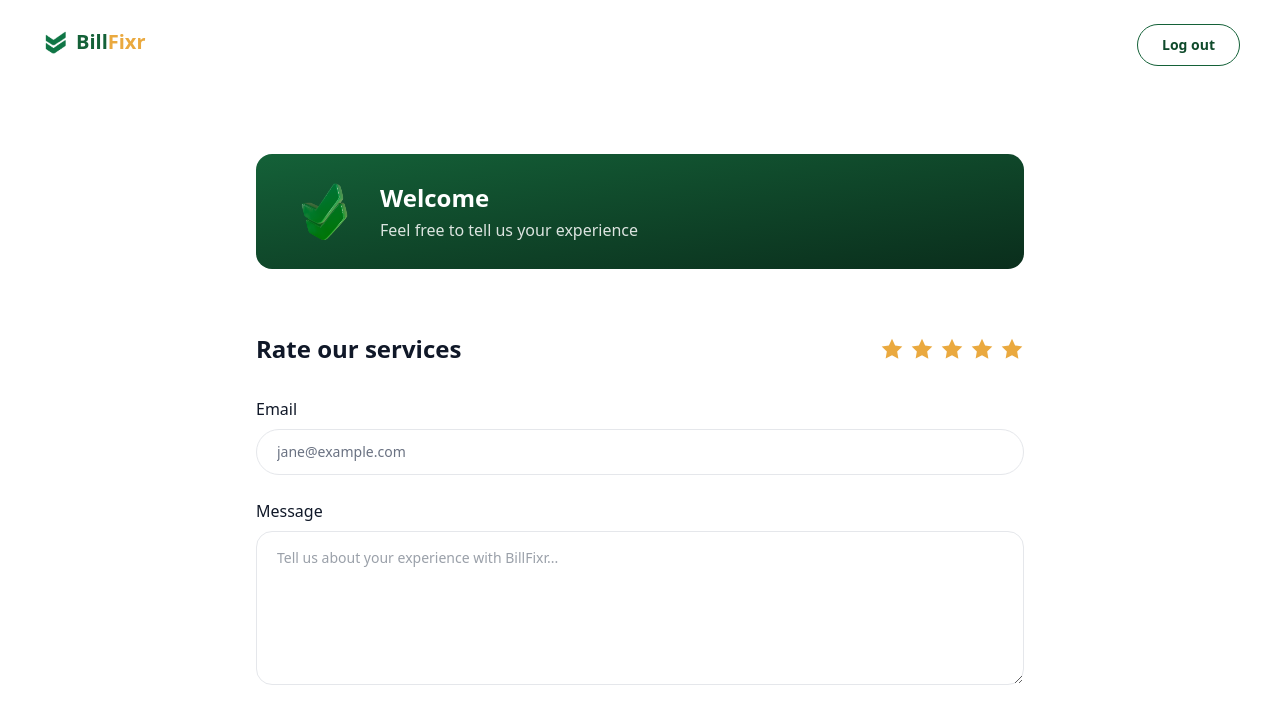
Test case: TestimonialForm › shows the server error and stays on the form when the insert fails
Type "Great service!" into the text box with placeholder "Tell us about your experience with BillFixr...". click: {"x": 640, "y": 608}
box: [256,531,1024,685]
(page scrolled)
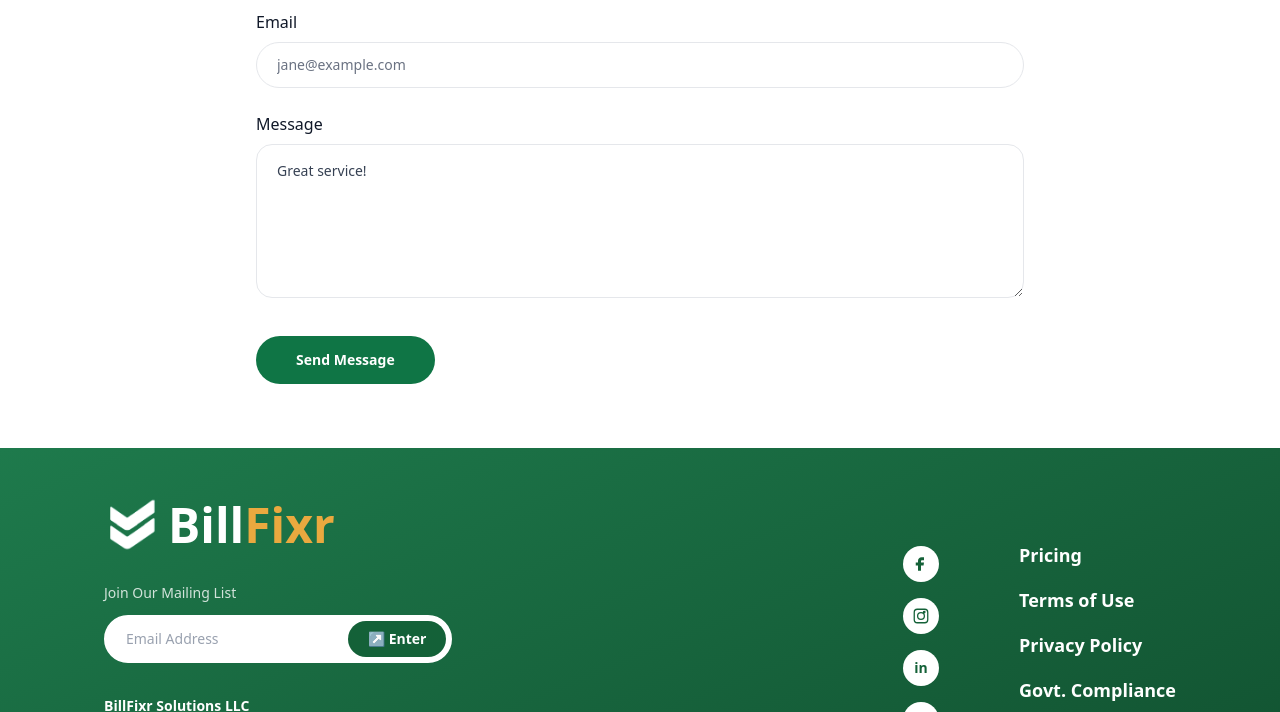
Click the button "Send Message". click: {"x": 345, "y": 360}
box: [256,336,435,384]
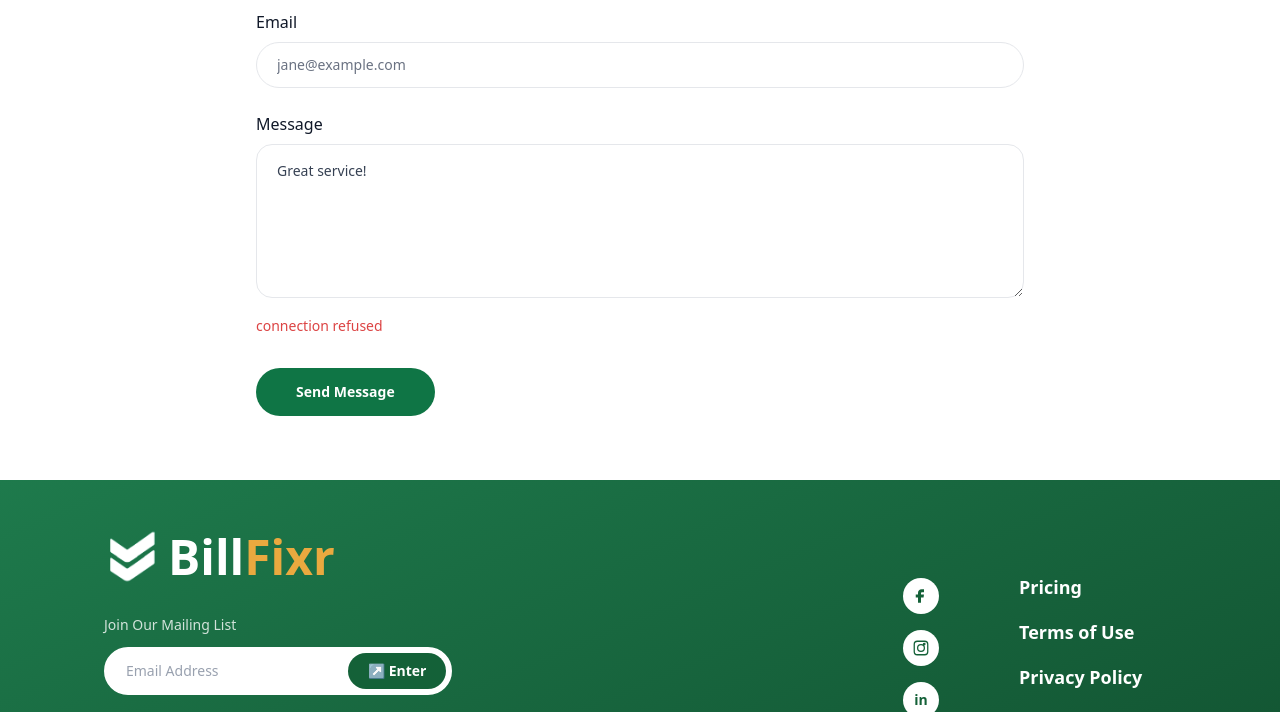
Check: the text "connection refused" is shown, box [256,316,383,335]
